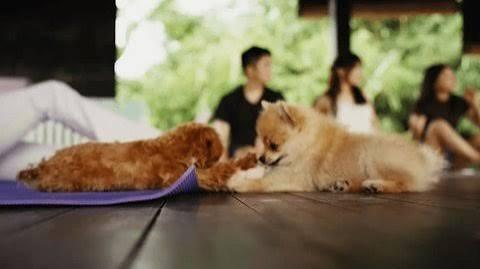adult_dog: (226, 97, 448, 193), (18, 120, 267, 191)
non-dog: (207, 44, 285, 154), (409, 60, 480, 171), (317, 53, 377, 135)
